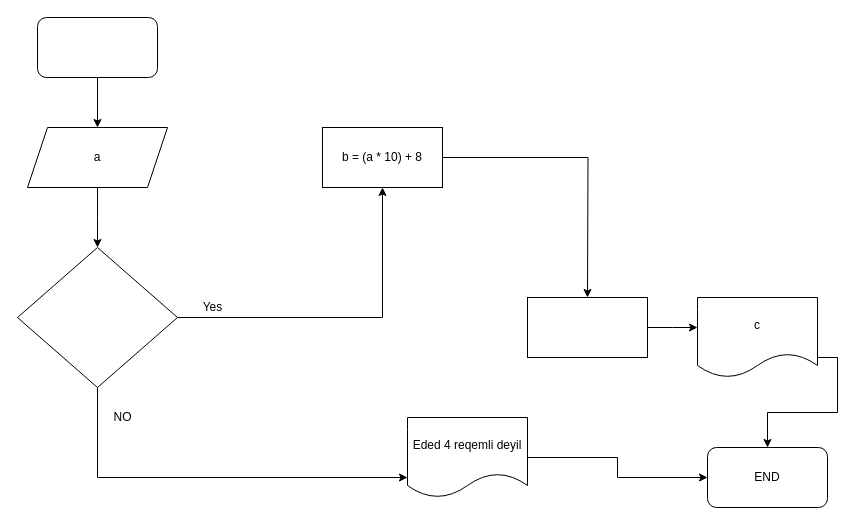
Some shapes in this 863 by 525 pixel diagram are drawn without their labels. Here are the shapes that lost their labels. From the top down, the centre of each, then its label:
the point at 97,47: START
the point at 97,317: a >= 1000 and a < 10000
the point at 587,327: c = b + 700000
